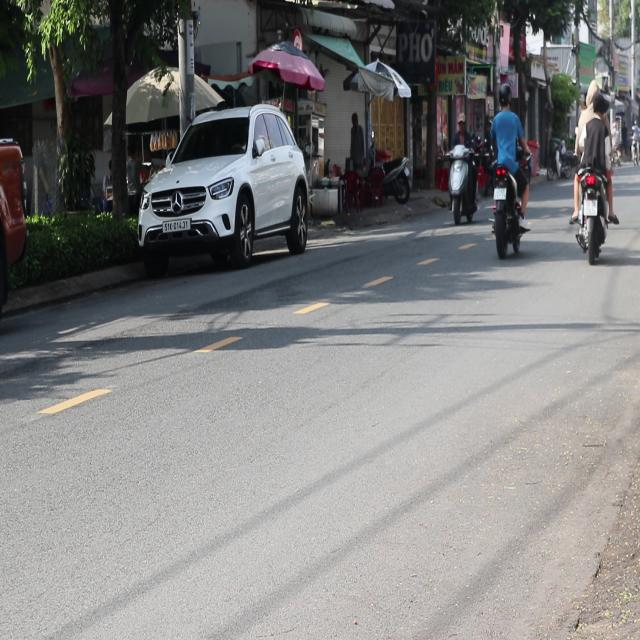helmet: (585, 79, 601, 107), (497, 81, 511, 109)
licenseplate: (569, 78, 618, 261), (487, 80, 531, 256)
motorcyclist: (592, 90, 607, 118)
nohelmet: (584, 198, 597, 214), (493, 187, 506, 200)
